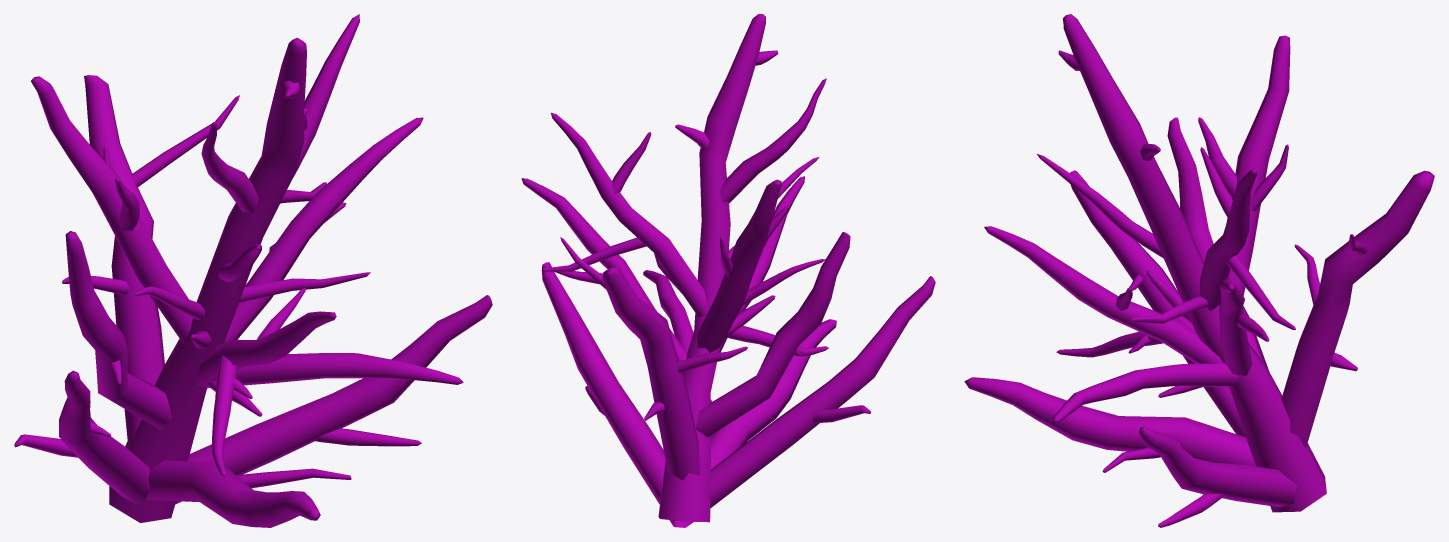
The model's file is Coral_Tree_1.fbx.
The picture shows the model from 3 angles, left to right: view 1: azimuth 30°, elevation 25°; view 2: azimuth 150°, elevation 25°; view 3: azimuth 270°, elevation 25°; orthographic projection. The views are drawn at different scales.
Visible parts, largest first — view 1: Coral_Tree_1; view 2: Coral_Tree_1; view 3: Coral_Tree_1.
Part boxes in pixels (bbox=[...]): Coral_Tree_1: bbox=[14, 14, 492, 527]; Coral_Tree_1: bbox=[521, 14, 935, 527]; Coral_Tree_1: bbox=[964, 14, 1434, 527].
Size of the model in its own units: 37.94 by 43.94 by 37.02.
